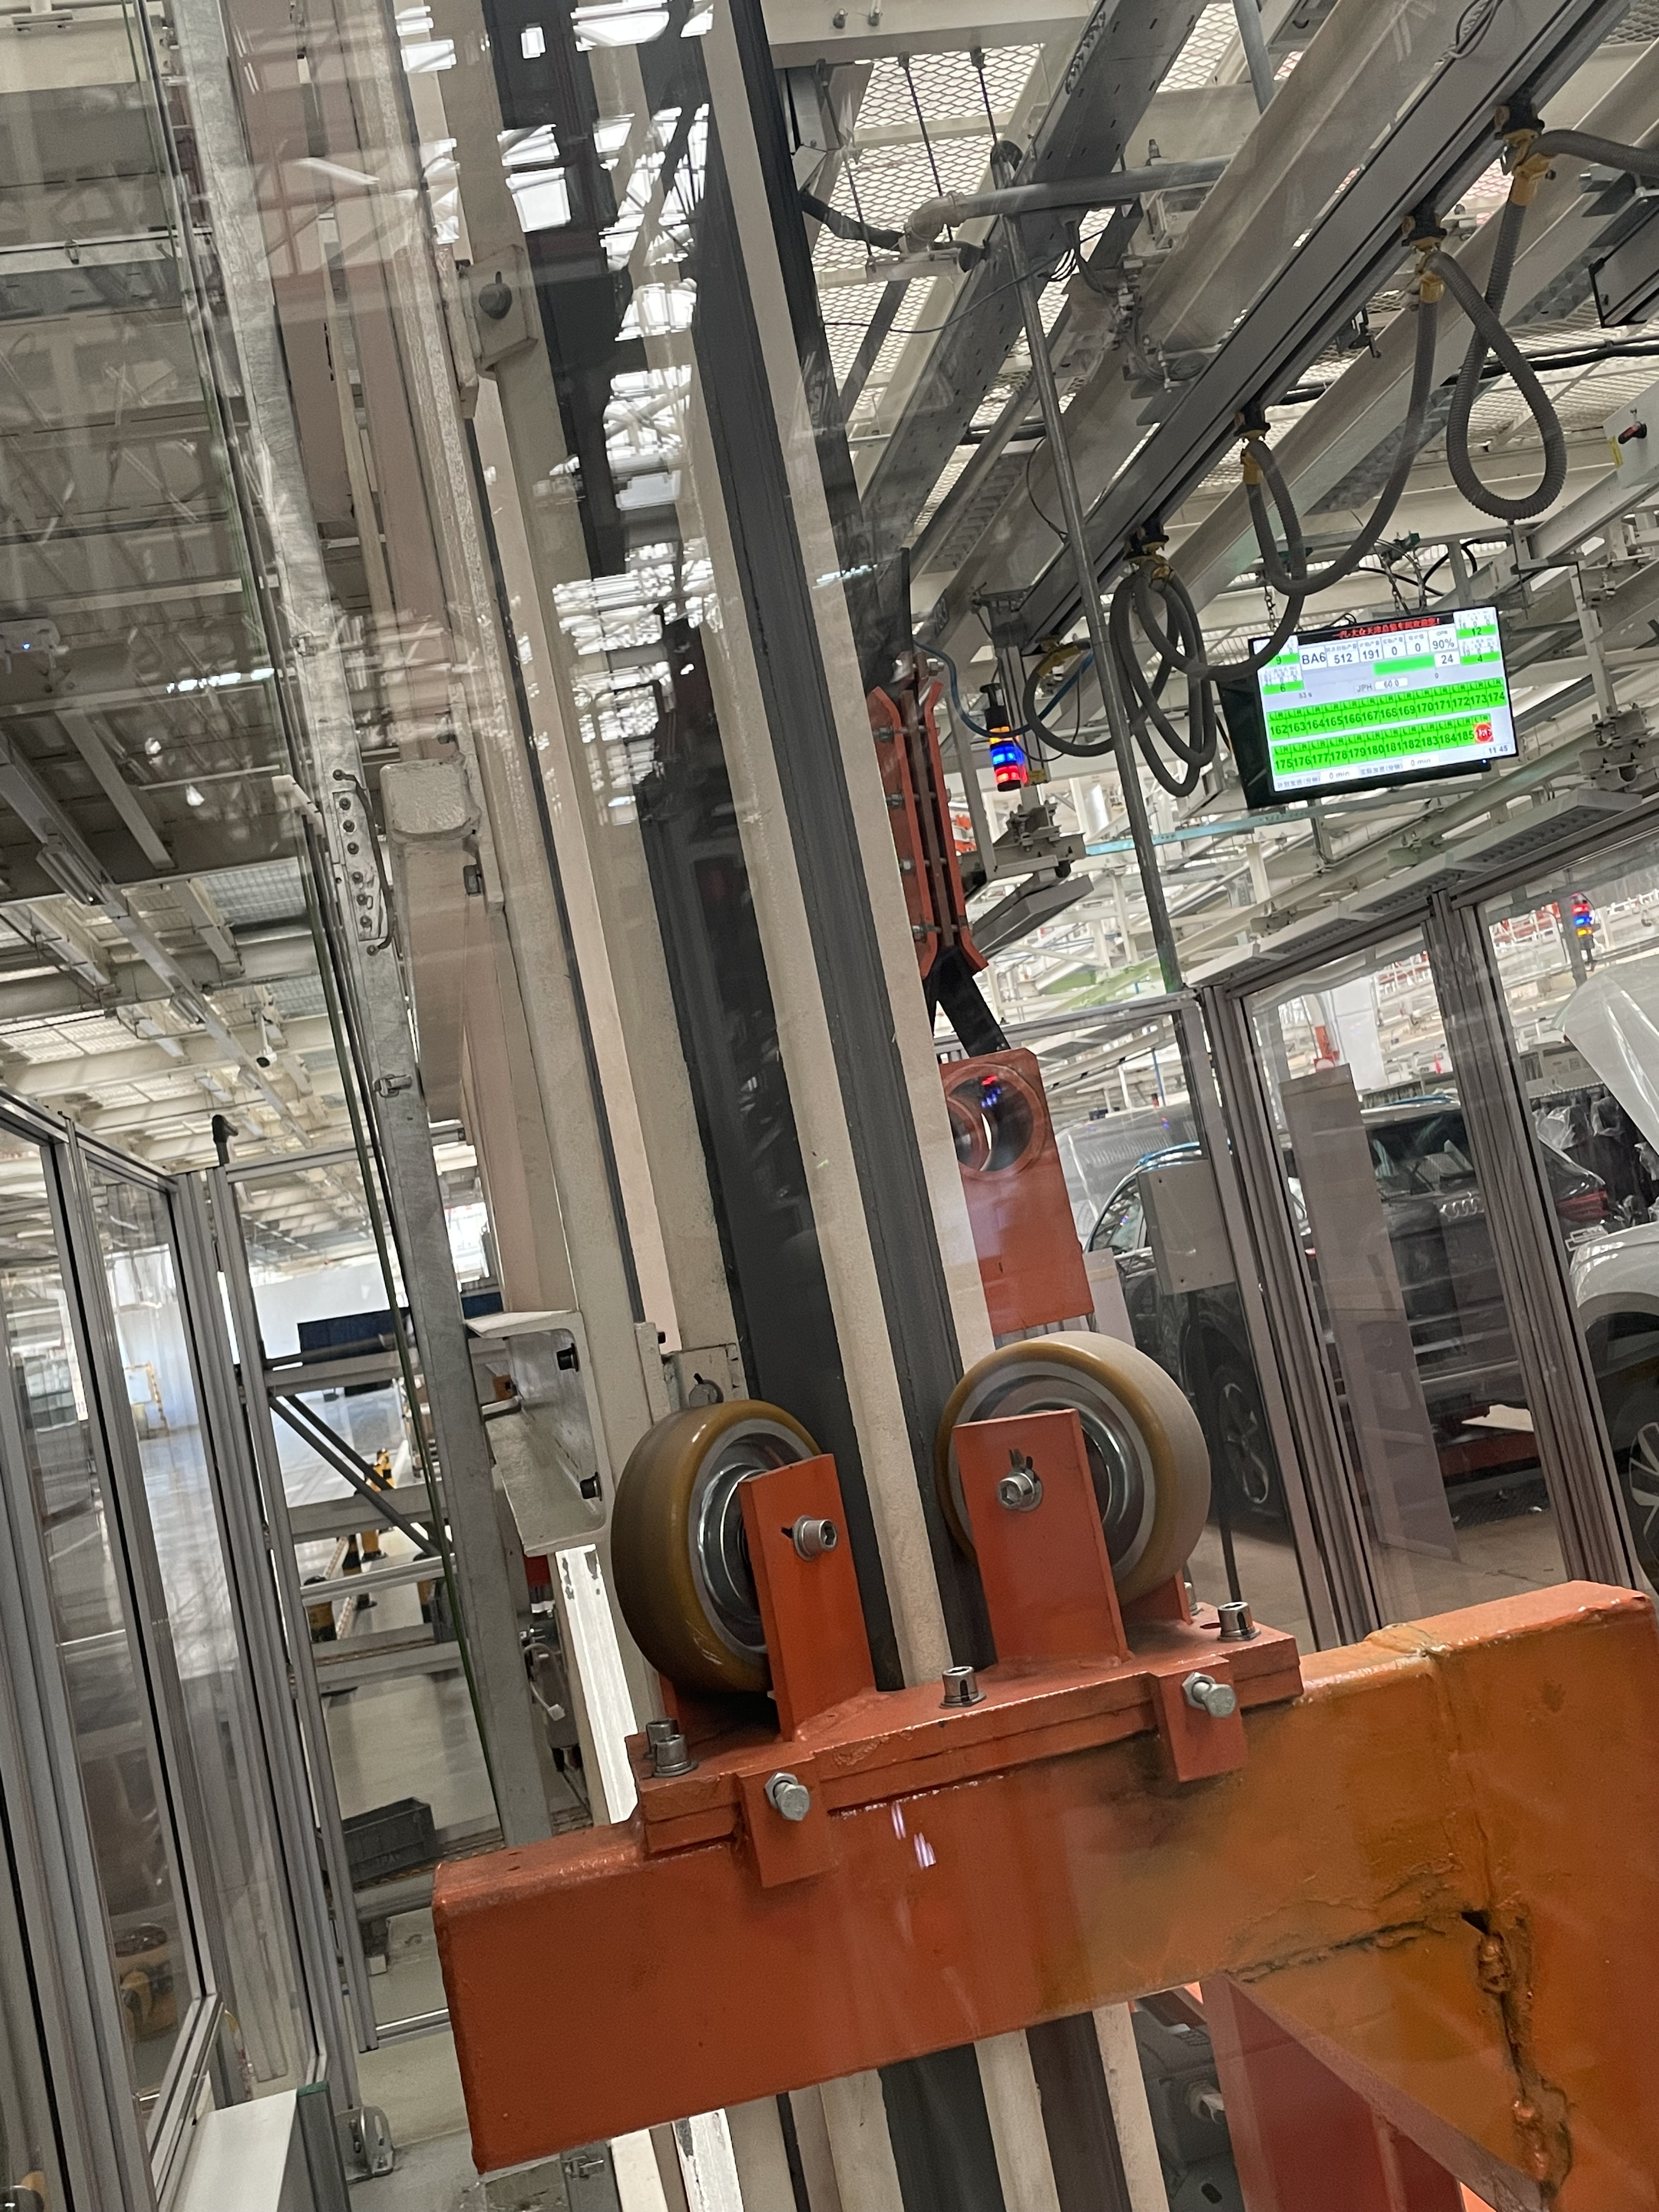good_wheel: (587, 1392, 887, 1696), (917, 1332, 1220, 1632)
